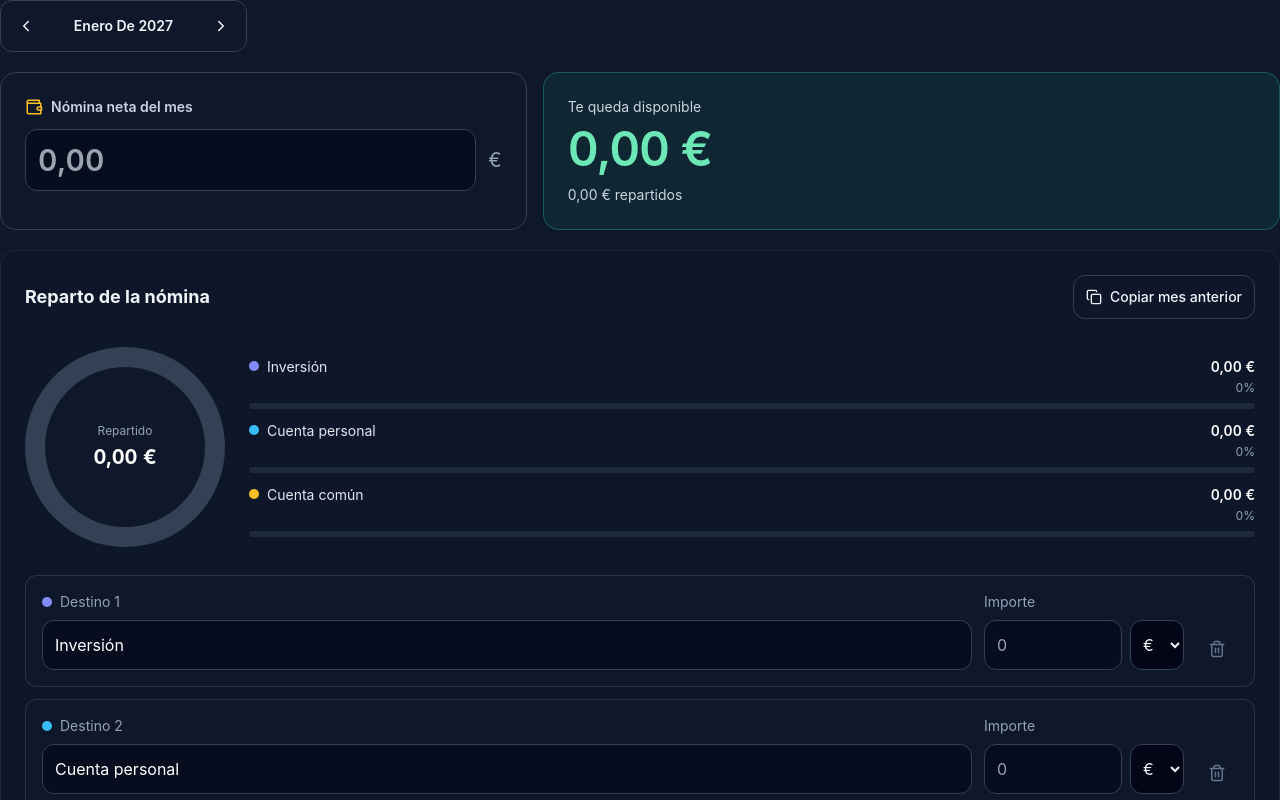
Scenario: Monthly money organization › keeps edits after a failed save and supports retry
The image size is (1280, 800).
Type "1800" into the number field labelled "Nómina neta del mes" at (251, 160), box [25,129,476,191]
(page scrolled)
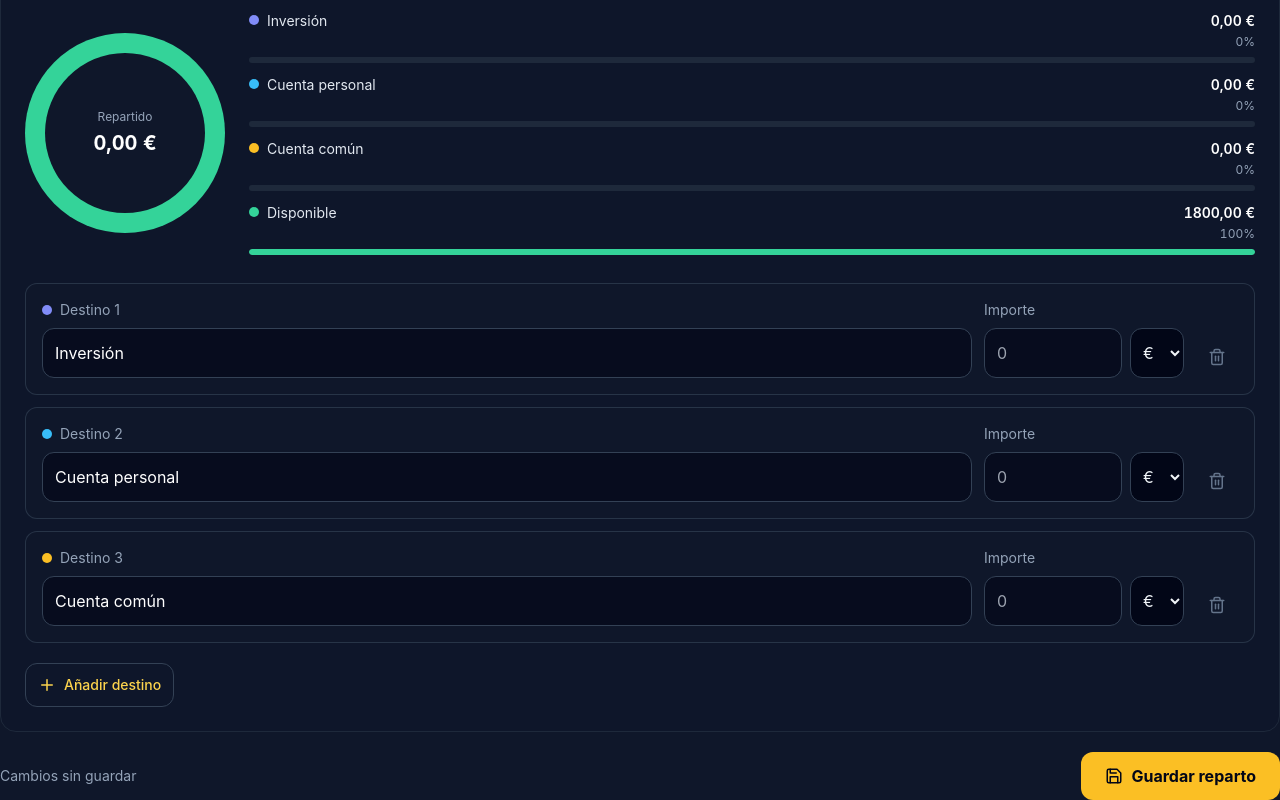
Click the button "Guardar reparto" at (1181, 776), box [1081,752,1279,799]
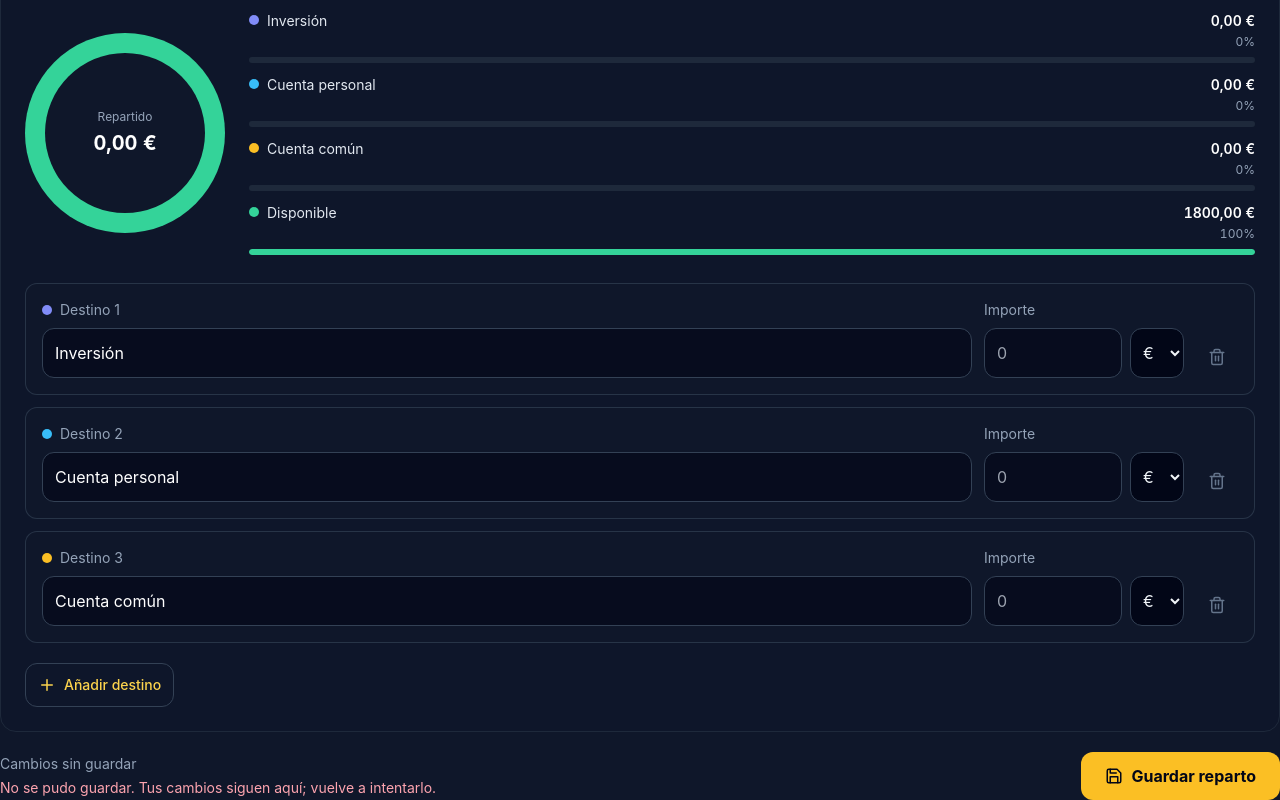
Result: the message "No se pudo guardar. Tus cambios siguen aquí; vuelve a intentarlo." is shown at [0,778,436,798]
Click the button "Guardar reparto" at (1181, 776), box [1081,752,1279,799]
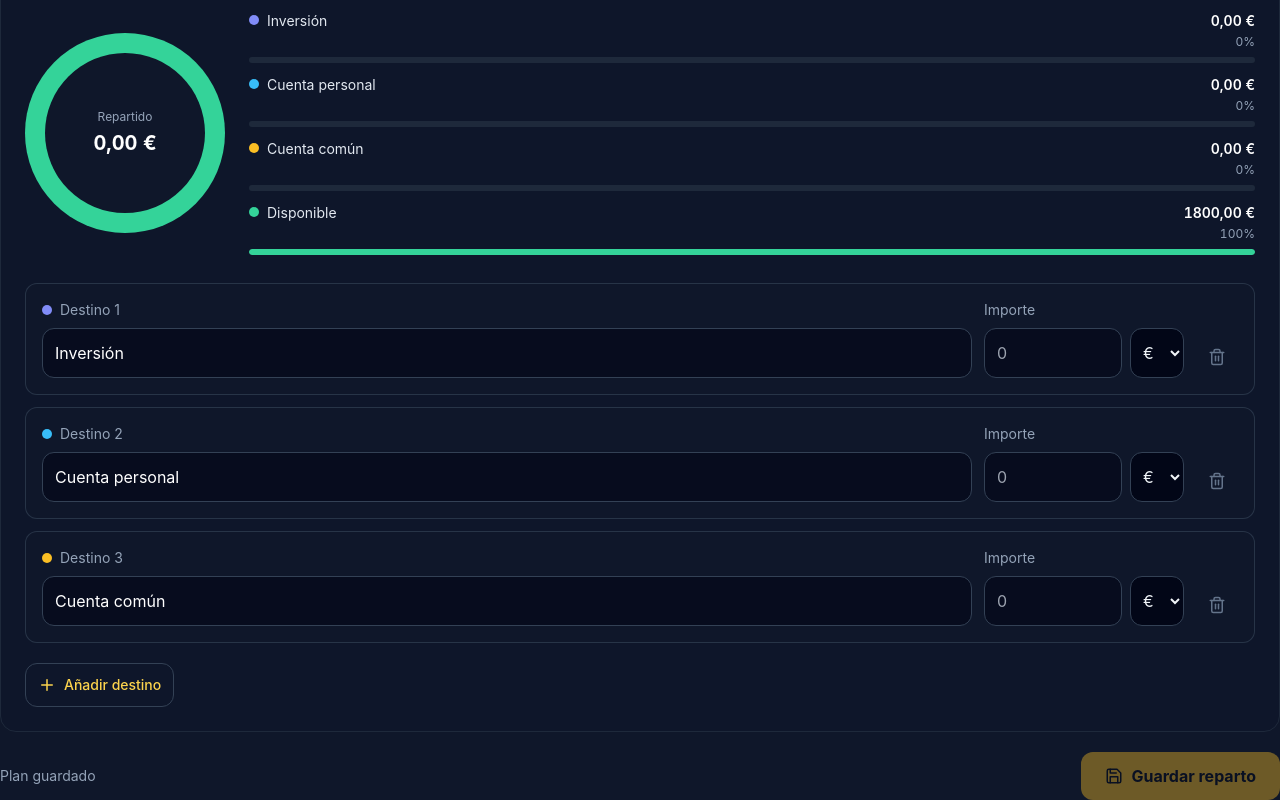
Result: the text "Plan guardado" is shown at [0,766,96,786]
